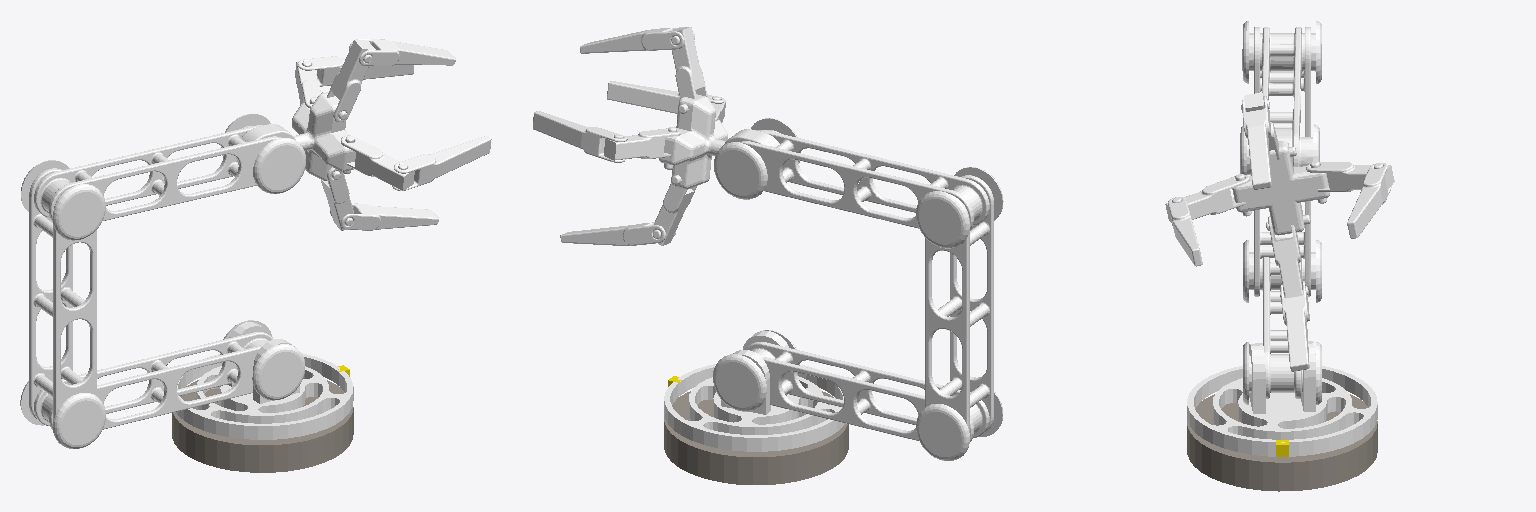
--- What the picture shows (computed from the rendered views, not written in the file) ---
3 views of the same robot in one strip: view 1: azimuth 30°, elevation 25°; view 2: azimuth 150°, elevation 25°; view 3: azimuth 270°, elevation 25° (orthographic).
Robot: big_arm_servos — 17 links, 16 joints (13 revolute, 1 continuous, 2 fixed); root link world; default pose: all joints at 0.
Links seen in each view (by area): view 1: link_4, link_2, link_1, link_3, base_link, link_6, grip_4b, grip_3b, grip_1b, grip_1, grip_4, grip_2b (+3 smaller); view 2: link_4, link_2, link_1, link_3, base_link, link_6, grip_2b, grip_3b, grip_1b, grip_1, grip_4b, grip_2 (+2 smaller); view 3: link_1, base_link, link_4, link_2, link_6, link_3, grip_1b, grip_3b, grip_2b, grip_4, grip_3, grip_2 (+2 smaller).
Boxes of the visible links, x1,y1,x2,y2 form: link_4: (21,114,305,240); link_2: (20,320,304,448); link_1: (176,322,353,439); link_3: (29,168,96,421); base_link: (172,380,353,472); link_6: (292,92,355,180); grip_4b: (392,136,491,190); grip_3b: (330,203,438,230); grip_1b: (349,39,455,65); grip_1: (327,40,375,122); grip_4: (341,135,414,190); grip_2b: (296,56,413,86); link_4: (714,118,1003,248); link_2: (713,330,1002,460); link_1: (664,331,844,451); link_3: (925,175,993,432); base_link: (664,391,848,484); link_6: (659,94,727,188); grip_2b: (533,111,627,162); grip_3b: (560,222,675,245); grip_1b: (580,27,694,53); grip_1: (669,27,707,98); grip_4b: (607,81,724,122); grip_2: (604,128,680,162); link_1: (1187,341,1377,456); base_link: (1187,394,1377,491); link_4: (1240,21,1321,174); link_2: (1243,240,1321,404); link_6: (1232,141,1329,235); link_3: (1254,27,1310,296); grip_1b: (1242,96,1271,189); grip_3b: (1280,281,1309,371); grip_2b: (1347,163,1391,238); grip_4: (1165,174,1249,222); grip_3: (1268,216,1308,297); grip_2: (1306,162,1394,191).
Size in the robot's own frame: 0.785 by 0.3604 by 0.6953 metres.
15 mesh visuals loaded from 15 distinct referenced files (15 binary STL).

URDF robot description (big_arm_servos):
<?xml version="1.0" encoding="utf-8"?>
<!-- This URDF was automatically created by SolidWorks to URDF Exporter! Originally created by Stephen Brawner ([email redacted]) 
     Commit Version: 1.5.1-0-g916b5db  Build Version: 1.5.7152.31018
     For more information, please see http://wiki.ros.org/sw_urdf_exporter -->
<robot
  name="big_arm_servos">
  <link
    name="base_link">
    <inertial>
      <origin
        xyz="5.10334886736748E-36 -1.54939116262366E-18 0.0248239436619718"
        rpy="0 0 0" />
      <mass
        value="2.4419917555561" />
      <inertia
        ixx="0.150370490434844"
        ixy="-8.31151180314476E-36"
        ixz="-1.89588324363783E-34"
        iyy="0.150370490434844"
        iyz="8.4912872199433E-18"
        izz="0.290141728163054" />
    </inertial>
    <visual>
      <origin
        xyz="0 0 0"
        rpy="0 0 0" />
      <geometry>
        <mesh
          filename="package://robot/meshes/base_link.STL" />
      </geometry>
      <material
        name="">
        <color
          rgba="0.647058823529412 0.619607843137255 0.588235294117647 1" />
      </material>
    </visual>
    <collision>
      <origin
        xyz="0 0 0"
        rpy="0 0 0" />
      <geometry>
        <mesh
          filename="package://robot/meshes/base_link.STL" />
      </geometry>
    </collision>
  </link>

  <link name="world"/>
  <joint name="world_joint" type="fixed">
    <parent link="world" />
    <child link = "base_link" />
    <origin xyz="0.0 0.0 0.0" rpy="0.0 0.0 0.0" />
  </joint>


  <link
    name="link_1">
    <inertial>
      <origin
        xyz="-6.72935833564308E-17 5.41722740362335E-16 0.0562858835388927"
        rpy="0 0 0" />
      <mass
        value="2.24036308689963" />
      <inertia
        ixx="0.00602313752636761"
        ixy="2.1208125474502E-05"
        ixz="-1.04263858784396E-18"
        iyy="0.00579248437417585"
        iyz="-5.09141599596496E-19"
        izz="0.0098329939500295" />
    </inertial>
    <visual>
      <origin
        xyz="0 0 0"
        rpy="0 0 0" />
      <geometry>
        <mesh
          filename="package://robot/meshes/link_1.STL" />
      </geometry>
      <material
        name="">
        <color
          rgba="1 1 1 0.32" />
      </material>
    </visual>
    <collision>
      <origin
        xyz="0 0 0"
        rpy="0 0 0" />
      <geometry>
        <mesh
          filename="package://robot/meshes/link_1.STL" />
      </geometry>
    </collision>
  </link>
  <joint
    name="joint_base_1"
    type="continuous">
    <origin
      xyz="0 0 0.025"
      rpy="0 0 0" />
    <parent
      link="base_link" />
    <child
      link="link_1" />
    <axis
      xyz="0 0 1" />
    <limit
      lower="-3.14159"
      upper="3.14159"
      effort="10000"
      velocity="10" />
    <dynamics
      damping="0.3"
      friction="0.3" />
  </joint>
  <link
    name="link_2">
    <inertial>
      <origin
        xyz="0.19 3.7470027081099E-16 -3.12389003553903E-16"
        rpy="0 0 0" />
      <mass
        value="1.38058358126134" />
      <inertia
        ixx="0.00248849839246422"
        ixy="5.07965658468404E-18"
        ixz="-3.90312782094782E-18"
        iyy="0.0437476242743762"
        iyz="-8.67361737988404E-19"
        izz="0.0425687229272136" />
    </inertial>
    <visual>
      <origin
        xyz="0 0 0"
        rpy="0 0 0" />
      <geometry>
        <mesh
          filename="package://robot/meshes/link_2.STL" />
      </geometry>
      <material
        name="">
        <color
          rgba="1 1 1 0.32" />
      </material>
    </visual>
    <collision>
      <origin
        xyz="0 0 0"
        rpy="0 0 0" />
      <geometry>
        <mesh
          filename="package://robot/meshes/link_2.STL" />
      </geometry>
    </collision>
  </link>
  <joint
    name="joint_12"
    type="revolute">
    <!--origin
      xyz="0 0 0.11"
      rpy="-1.5708 -0.95024 -3.0507" /-->
    <origin
      xyz="0 0 0.11"
      rpy="-1.5708 0 -3.14159" />
    <parent
      link="link_1" />
    <child
      link="link_2" />
    <axis
      xyz="0 0 1" />
    <limit
      lower="-3.14159"
      upper="3.14159"
      effort="10000"
      velocity="10" />
    <dynamics
      damping="0.1"
      friction="0.1" />
  </joint>
  <link
    name="link_3">
    <inertial>
      <origin
        xyz="0.190000000000009 1.0991207943789E-14 2.35922392732846E-16"
        rpy="0 0 0" />
      <mass
        value="0.492773406896242" />
      <inertia
        ixx="0.000993126064016739"
        ixy="-1.98629226131133E-19"
        ixz="-1.47383732822248E-18"
        iyy="0.00882828983439309"
        iyz="-3.79470760369927E-19"
        izz="0.00857639886635598" />
    </inertial>
    <visual>
      <origin
        xyz="0 0 0"
        rpy="0 0 0" />
      <geometry>
        <mesh
          filename="package://robot/meshes/link_3.STL" />
      </geometry>
      <material
        name="">
        <color
          rgba="1 1 1 0.32" />
      </material>
    </visual>
    <collision>
      <origin
        xyz="0 0 0"
        rpy="0 0 0" />
      <geometry>
        <mesh
          filename="package://robot/meshes/link_3.STL" />
      </geometry>
    </collision>
  </link>
  <joint
    name="joint_23"
    type="revolute">
    <!--origin
      xyz="0.38 0 0"
      rpy="0 0 -1.207" /-->
    <origin
      xyz="0.38 0 0"
      rpy="0 0 -1.57079" />
    <parent
      link="link_2" />
    <child
      link="link_3" />
    <axis
      xyz="0 0 1" />
    <limit
      lower="-3.14159"
      upper="3.14159"
      effort="1000"
      velocity="10" />
    <dynamics
      damping="0.1"
      friction="0.1" />
  </joint>
  <link
    name="link_4">
    <inertial>
      <!--origin
        xyz="0.188502975963012 -0.0164677703024454 -0.0171883854493124"
        rpy="0 0 0" /-->
      <origin
        xyz="0.188502975963012 -0.0164677703024454 -0.0171883854493124"
        rpy="0 0 0" />
      <mass
        value="1.38058358126134" />
      <inertia
        ixx="0.00312638334029432"
        ixy="0.00354785475887284"
        ixz="0.00359649566474575"
        iyy="0.0434376808533928"
        iyz="-0.000323506272525106"
        izz="0.0422407814003671" />
    </inertial>
    <visual>
      <origin
        xyz="0 0 0"
        rpy="0 -0.1 0.08" />
      <geometry>
        <mesh
          filename="package://robot/meshes/link_4.STL" />
      </geometry>
      <material
        name="">
        <color
          rgba="1 1 1 0.32" />
      </material>
    </visual>
    <collision>
      <origin
        xyz="0 0 0"
        rpy="0 -0.1 0" />
      <geometry>
        <mesh
          filename="package://robot/meshes/link_4.STL" />
      </geometry>
    </collision>
  </link>
  <joint
    name="joint_34"
    type="revolute">
    <!--origin
      xyz="0.38 0 0"
      rpy="0 -0.090932 -0.98436" /-->
    <origin
      xyz="0.38 0 0"
      rpy="0 0 -1.57079" />
    <parent
      link="link_3" />
    <child
      link="link_4" />
    <axis
      xyz="0 0 1" />
    <limit
      lower="0"
      upper="6.183"
      effort="1000"
      velocity="10" />
    <dynamics
      damping="0.1"
      friction="0.1" />
  </joint>
  <link
    name="link_5">
    <inertial>
    <!--origin
        xyz="-0.0141429450104605 7.53233908579176E-08 0.00199995138060591"
        rpy="0 0 0" /-->
      <origin
        xyz="-0.0141429450104605 7.53233908579176E-08 0.00199995138060591"
        rpy="0 0 0" />
      <mass
        value="0.130378439395373" />
      <inertia
        ixx="9.85693744749924E-05"
        ixy="-2.23559602004266E-09"
        ixz="-7.5663588800688E-11"
        iyy="0.000116973092049288"
        iyz="5.32702014819344E-11"
        izz="0.0001866513337855" />
    </inertial>
    <visual>
      <origin
        xyz="0 0 0"
        rpy="0 0 0" />
      <geometry>
        <mesh
          filename="package://robot/meshes/link_5.STL" />
      </geometry>
      <material
        name="">
        <color
          rgba="1 1 1 0.32" />
      </material>
    </visual>
    <collision>
      <origin
        xyz="0 0 0"
        rpy="0 0 0" />
      <geometry>
        <mesh
          filename="package://robot/meshes/link_5.STL" />
      </geometry>
    </collision>
  </link>
  <joint
    name="joint_45"
    type="revolute">
    <origin
      xyz="0.37701 0 0"
      rpy="0 0 3.14159" />
    <!--origin
      xyz="0.37701 -0.032936 -0.034377"
      rpy="0.062559 -0.066036 2.3822" /-->
    <parent
      link="link_4" />
    <child
      link="link_5" />
    <axis
      xyz="0 0 1" />
    <limit
      lower="0"
      upper="6.183"
      effort="1000"
      velocity="10" />
    <dynamics
      damping="0.1"
      friction="0.1" />
  </joint>
  <link
    name="link_6">
    <inertial>
      <origin
        xyz="-4.97039481107964E-07 2.63088229068842E-06 0.0786774570131245"
        rpy="0 0 0" />
      <mass
        value="0.665759903912911" />
      <inertia
        ixx="0.000952789706275326"
        ixy="-1.38154320697555E-08"
        ixz="-8.31042935225815E-10"
        iyy="0.00095286060074004"
        iyz="4.52211814098408E-09"
        izz="0.00141997991990691" />
    </inertial>
    <visual>
      <origin
        xyz="0 0 0"
        rpy="0 0 0" />
      <geometry>
        <mesh
          filename="package://robot/meshes/link_6.STL" />
      </geometry>
      <material
        name="">
        <color
          rgba="1 1 1 0.32" />
      </material>
    </visual>
    <collision>
      <origin
        xyz="0 0 0"
        rpy="0 0 0" />
      <geometry>
        <mesh
          filename="package://robot/meshes/link_6.STL" />
      </geometry>
    </collision>
  </link>
  <joint
    name="joint_56"
    type="revolute">
    <origin
      xyz="-0.04 0 0.002"
      rpy="-2.3654 1.5708 0.77614" />
    <parent
      link="link_5" />
    <child
      link="link_6" />
    <axis
      xyz="0 0 1" />
    <limit
      lower="0"
      upper="6.183"
      effort="1000"
      velocity="10" />
    <dynamics
      damping="0.1"
      friction="0.1" />
  </joint>
  <link
    name="grip_1">
    <inertial>
      <origin
        xyz="0.0674233348638277 -0.00149730770397288 0.00988726780355913"
        rpy="0 0 0" />
      <mass
        value="0.11992363568227" />
      <inertia
        ixx="2.32996122881845E-05"
        ixy="-3.6096640394024E-12"
        ixz="4.42085269022021E-13"
        iyy="0.000147857015499886"
        iyz="8.71359919641666E-07"
        izz="0.000142235051121448" />
    </inertial>
    <visual>
      <origin
        xyz="0 0 0"
        rpy="0 0 0" />
      <geometry>
        <mesh
          filename="package://robot/meshes/grip_1.STL" />
      </geometry>
      <material
        name="">
        <color
          rgba="1 1 1 0.32" />
      </material>
    </visual>
    <collision>
      <origin
        xyz="0 0 0"
        rpy="0 0 0" />
      <geometry>
        <mesh
          filename="package://robot/meshes/grip_1.STL" />
      </geometry>
    </collision>
  </link>
  <joint
    name="joint_6_g1"
    type="revolute">
    <origin
      xyz="-0.011072 0.05897 0.091"
      rpy="-1.7211 -0.33932 1.7564" />
    <parent
      link="link_6" />
    <child
      link="grip_1" />
    <axis
      xyz="0 0 1" />
    <limit
      lower="0"
      upper="0"
      effort="1000"
      velocity="10" />
    <dynamics
      damping="0.1"
      friction="0.1" />
  </joint>
  <link
    name="grip_1b">
    <inertial>
      <origin
        xyz="0.0843265899344989 -0.00212380310637394 0.0099999996377477"
        rpy="0 0 0" />
      <mass
        value="0.141643537240913" />
      <inertia
        ixx="2.42692219268835E-05"
        ixy="1.63887843182053E-05"
        ixz="7.78137406188141E-12"
        iyy="0.000336749313354746"
        iyz="-5.98415142376405E-12"
        izz="0.000330285690314077" />
    </inertial>
    <visual>
      <origin
        xyz="0 0 0"
        rpy="0 0 0" />
      <geometry>
        <mesh
          filename="package://robot/meshes/grip_1b.STL" />
      </geometry>
      <material
        name="">
        <color
          rgba="1 1 1 0.32" />
      </material>
    </visual>
    <collision>
      <origin
        xyz="0 0 0"
        rpy="0 0 0" />
      <geometry>
        <mesh
          filename="package://robot/meshes/grip_1b.STL" />
      </geometry>
    </collision>
  </link>
  <joint
    name="joint_grip_1b"
    type="revolute">
    <origin
      xyz="0.11 0 0"
      rpy="0.011605 0.14985 -1.4932" />
    <parent
      link="grip_1" />
    <child
      link="grip_1b" />
    <axis
      xyz="0 0 1" />
    <limit
      lower="0"
      upper="0"
      effort="1000"
      velocity="10" />
  </joint>
  <link
    name="grip_2">
    <inertial>
      <origin
        xyz="0.0659446867940136 -0.0140429541455789 0.0100000004099546"
        rpy="0 0 0" />
      <mass
        value="0.119923642785374" />
      <inertia
        ixx="2.87087256812529E-05"
        ixy="2.54007949129357E-05"
        ixz="-6.35189378224036E-13"
        iyy="0.000142579853996741"
        iyz="-2.45328437956385E-12"
        izz="0.000142103089158568" />
    </inertial>
    <visual>
      <origin
        xyz="0 0 0"
        rpy="0 0 0" />
      <geometry>
        <mesh
          filename="package://robot/meshes/grip_2.STL" />
      </geometry>
      <material
        name="">
        <color
          rgba="1 1 1 0.32" />
      </material>
    </visual>
    <collision>
      <origin
        xyz="0 0 0"
        rpy="0 0 0" />
      <geometry>
        <mesh
          filename="package://robot/meshes/grip_2.STL" />
      </geometry>
    </collision>
  </link>
  <joint
    name="joint_6_g2"
    type="revolute">
    <origin
      xyz="0.05897 0.011072 0.091"
      rpy="-1.5708 -0.19278 0.1856" />
    <parent
      link="link_6" />
    <child
      link="grip_2" />
    <axis
      xyz="0 0 1" />
    <limit
      lower="0"
      upper="0"
      effort="1000"
      velocity="10" />
  </joint>
  <link
    name="grip_2b">
    <inertial>
      <origin
        xyz="0.0843265865207311 -0.00212380179885391 0.00999999957992204"
        rpy="0 0 0" />
      <mass
        value="0.141643614685743" />
      <inertia
        ixx="2.42692404977318E-05"
        ixy="1.63887852150154E-05"
        ixz="-1.45187447117269E-13"
        iyy="0.000336749419639376"
        iyz="-4.62085035355829E-12"
        izz="0.000330285797805327" />
    </inertial>
    <visual>
      <origin
        xyz="0 0 0"
        rpy="0 0 0" />
      <geometry>
        <mesh
          filename="package://robot/meshes/grip_2b.STL" />
      </geometry>
      <material
        name="">
        <color
          rgba="1 1 1 0.32" />
      </material>
    </visual>
    <collision>
      <origin
        xyz="0 0 0"
        rpy="0 0 0" />
      <geometry>
        <mesh
          filename="package://robot/meshes/grip_2b.STL" />
      </geometry>
    </collision>
  </link>
  <joint
    name="joint_grip_2b"
    type="revolute">
    <origin
      xyz="0.10759 -0.022911 0"
      rpy="0 0 -1.5817" />
    <parent
      link="grip_2" />
    <child
      link="grip_2b" />
    <axis
      xyz="0 0 1" />
    <limit
      lower="0"
      upper="0"
      effort="1000"
      velocity="10" />
  </joint>
  <link
    name="grip_3">
    <inertial>
      <origin
        xyz="0.0674233349821467 -0.000216683054989369 -0.00999765235365951"
        rpy="0 0 0" />
      <mass
        value="0.119923637058051" />
      <inertia
        ixx="2.32996122767126E-05"
        ixy="-3.01255348785664E-12"
        ixz="1.15039704239531E-12"
        iyy="0.0001479862078452"
        iyz="-1.27510854779785E-07"
        izz="0.000142105857428452" />
    </inertial>
    <visual>
      <origin
        xyz="0 0 0"
        rpy="0 0 0" />
      <geometry>
        <mesh
          filename="package://robot/meshes/grip_3.STL" />
      </geometry>
      <material
        name="">
        <color
          rgba="1 1 1 0.32" />
      </material>
    </visual>
    <collision>
      <origin
        xyz="0 0 0"
        rpy="0 0 0" />
      <geometry>
        <mesh
          filename="package://robot/meshes/grip_3.STL" />
      </geometry>
    </collision>
  </link>
  <joint
    name="joint_6_g3"
    type="revolute">
    <origin
      xyz="0.011072 -0.05897 0.091"
      rpy="-1.5491 -0.33932 -1.3852" />
    <parent
      link="link_6" />
    <child
      link="grip_3" />
    <axis
      xyz="0 0 1" />
    <limit
      lower="0"
      upper="0"
      effort="1000"
      velocity="10" />
  </joint>
  <link
    name="grip_3b">
    <inertial>
      <origin
        xyz="0.0843265835470308 -0.00212380359506137 -0.0100000017555446"
        rpy="0 0 0" />
      <mass
        value="0.141643615845273" />
      <inertia
        ixx="2.42692401970422E-05"
        ixy="1.6388779687381E-05"
        ixz="-2.83700056075674E-12"
        iyy="0.000336749373130495"
        iyz="-7.01396464170066E-12"
        izz="0.000330285749652679" />
    </inertial>
    <visual>
      <origin
        xyz="0 0 0"
        rpy="0 0 0" />
      <geometry>
        <mesh
          filename="package://robot/meshes/grip_3b.STL" />
      </geometry>
      <material
        name="">
        <color
          rgba="1 1 1 0.32" />
      </material>
    </visual>
    <collision>
      <origin
        xyz="0 0 0"
        rpy="0 0 0" />
      <geometry>
        <mesh
          filename="package://robot/meshes/grip_3b.STL" />
      </geometry>
    </collision>
  </link>
  <joint
    name="joint_grip_3b"
    type="revolute">
    <origin
      xyz="0.11 0 0"
      rpy="-0.013124 -0.017244 -0.9202" />
    <parent
      link="grip_3" />
    <child
      link="grip_3b" />
    <axis
      xyz="0 0 1" />
    <limit
      lower="0"
      upper="0"
      effort="1000"
      velocity="10" />
  </joint>
  <link
    name="grip_4">
    <inertial>
      <origin
        xyz="0.0674233355383608 -1.42527756957778E-09 0.0100000001980208"
        rpy="0 0 0" />
      <mass
        value="0.119923640551901" />
      <inertia
        ixx="2.32996121229523E-05"
        ixy="3.46372397723362E-12"
        ixz="-8.87942195128388E-13"
        iyy="0.000147988969529785"
        iyz="-2.64203844349206E-12"
        izz="0.000142103091352165" />
    </inertial>
    <visual>
      <origin
        xyz="0 0 0"
        rpy="0 0 0" />
      <geometry>
        <mesh
          filename="package://robot/meshes/grip_4.STL" />
      </geometry>
      <material
        name="">
        <color
          rgba="1 1 1 0.32" />
      </material>
    </visual>
    <collision>
      <origin
        xyz="0 0 0"
        rpy="0 0 0" />
      <geometry>
        <mesh
          filename="package://robot/meshes/grip_4.STL" />
      </geometry>
    </collision>
  </link>
  <joint
    name="joint_6_g4"
    type="revolute">
    <origin
      xyz="-0.05897 -0.011072 0.091"
      rpy="1.5708 -0.4026 -2.956" />
    <parent
      link="link_6" />
    <child
      link="grip_4" />
    <axis
      xyz="0 0 1" />
    <limit
      lower="0"
      upper="0"
      effort="1000"
      velocity="10" />
  </joint>
  <link
    name="grip_4b">
    <inertial>
      <origin
        xyz="0.0843265859870006 -0.0021238019435485 -0.0100000004854647"
        rpy="0 0 0" />
      <mass
        value="0.141643613852148" />
      <inertia
        ixx="2.42692402907718E-05"
        ixy="1.63887841722403E-05"
        ixz="-6.86254961946683E-13"
        iyy="0.000336749412376889"
        iyz="-4.57853621959074E-12"
        izz="0.000330285790627453" />
    </inertial>
    <visual>
      <origin
        xyz="0 0 0"
        rpy="0 0 0" />
      <geometry>
        <mesh
          filename="package://robot/meshes/grip_4b.STL" />
      </geometry>
      <material
        name="">
        <color
          rgba="1 1 1 0.32" />
      </material>
    </visual>
    <collision>
      <origin
        xyz="0 0 0"
        rpy="0 0 0" />
      <geometry>
        <mesh
          filename="package://robot/meshes/grip_4b.STL" />
      </geometry>
    </collision>
  </link>
  <joint
    name="joint_grip_4b"
    type="revolute">
    <origin
      xyz="0.11 0 0"
      rpy="3.1416 0 1.2805" />
    <parent
      link="grip_4" />
    <child
      link="grip_4b" />
    <axis
      xyz="0 0 1" />
    <limit
      lower="0"
      upper="0"
      effort="1000"
      velocity="10" />
  </joint>

  <!-- CAMERA -->

  <link
    name="camera_link">
    <inertial>
      <origin
        xyz="0 0 0"
        rpy="0 0 0" />
      <mass
        value="0.03" />
      <inertia
        ixx="1E-5"
        ixy="-6.30057515429682E-19"
        ixz="9.52689050201753E-19"
        iyy="1E-5"
        iyz="-2.5410988417629E-20"
        izz="1E-5" />
    </inertial>
    <visual>
      <origin
        xyz="0 0 0"
        rpy="0 0 0" />
    <geometry>
      <box size="0.02 0.02 0.02"/>
    </geometry>
      <material
        name="">
        <color
          rgba="1 0.913725490196078 0.0313725490196078 1" />
      </material>
    </visual>
    <collision>
      <origin
        xyz="0 0 0"
        rpy="0 0 0" />
      <geometry>
          <box size="0.02 0.02 0.02"/>
      </geometry>
    </collision>
  </link>

  <joint name="camera_joint" type="fixed">
    <parent link="link_1" />
    <child link = "camera_link" />
    <origin xyz="0.15 0.0 0.05" rpy="0.0 0.0 0.0" />
  </joint>

  <gazebo reference="camera_link">
    <sensor type="camera" name="camera1">
      <update_rate>30.0</update_rate>
      <camera name="head">
        <horizontal_fov>1.3962634</horizontal_fov>
        <image>
          <width>800</width>
          <height>800</height>
          <format>R8G8B8</format>
        </image>
        <clip>
          <near>0.02</near>
          <far>300</far>
        </clip>
        <noise>
          <type>gaussian</type>
          <!-- Noise is sampled independently per pixel on each frame.
               That pixel's noise value is added to each of its color
               channels, which at that point lie in the range [0,1]. -->
          <mean>0.0</mean>
          <stddev>0.007</stddev>
        </noise>
      </camera>
      <plugin name="camera_controller" filename="libgazebo_ros_camera.so">
        <alwaysOn>true</alwaysOn>
        <updateRate>0.0</updateRate>
        <cameraName>big_arm/camera1</cameraName>
        <imageTopicName>image_raw</imageTopicName>
        <cameraInfoTopicName>camera_info</cameraInfoTopicName>
        <frameName>camera_link</frameName>
        <hackBaseline>0.07</hackBaseline>
        <distortionK1>0.0</distortionK1>
        <distortionK2>0.0</distortionK2>
        <distortionK3>0.0</distortionK3>
        <distortionT1>0.0</distortionT1>
        <distortionT2>0.0</distortionT2>
      </plugin>
    </sensor>
  </gazebo>

   <!-- GAZEBO REFERENCES FOR BODIES-->

  <gazebo reference="camera_link">
  <selfCollide>true</selfCollide>
    <mu1>0.1</mu1>
    <mu2>0.1</mu2>
    <kp>100000</kp>
    <kd>0.1</kd>
    <material>Gazebo/Brown</material>
  </gazebo>  

  <gazebo reference="base_link">
  <selfCollide>true</selfCollide>
    <mu1>0.1</mu1>
    <mu2>0.1</mu2>
    <kp>100000</kp>
    <kd>0.1</kd>
    <material>Gazebo/Orange</material>
  </gazebo>  

  <gazebo reference="link_1">
  <selfCollide>true</selfCollide>
    <mu1>0.1</mu1>
    <mu2>0.1</mu2>
    <kp>100000</kp>
    <kd>0.1</kd>
    <material>Gazebo/Orange</material>
  </gazebo> 

  <gazebo reference="link_2">
  <selfCollide>true</selfCollide>
    <mu1>0.1</mu1>
    <mu2>0.1</mu2>
    <kp>10000</kp>
    <kd>0.1</kd>
    <material>Gazebo/Orange</material>
  </gazebo> 

  <gazebo reference="link_3">
  <selfCollide>true</selfCollide>
    <mu1>0.1</mu1>
    <mu2>0.1</mu2>
    <kp>100000</kp>
    <kd>0.1</kd>
    <material>Gazebo/Orange</material>
  </gazebo> 

  <gazebo reference="link_4">
  <selfCollide>true</selfCollide>
    <mu1>0.1</mu1>
    <mu2>0.1</mu2>
    <kp>100000</kp>
    <kd>0.1</kd>
    <material>Gazebo/Orange</material>
  </gazebo> 

  <gazebo reference="link_5">
  <selfCollide>true</selfCollide>
    <mu1>0.1</mu1>
    <mu2>0.1</mu2>
    <kp>100000</kp>
    <kd>0.1</kd>
    <material>Gazebo/Orange</material>
  </gazebo> 

  <gazebo reference="link_6">
  <selfCollide>true</selfCollide>
    <mu1>0.1</mu1>
    <mu2>0.1</mu2>
    <kp>100000</kp>
    <kd>0.1</kd>
    <material>Gazebo/Orange</material>
  </gazebo> 

  <gazebo reference="grip_1">
  <selfCollide>true</selfCollide>
    <mu1>0.1</mu1>
    <mu2>0.1</mu2>
    <kp>100000</kp>
    <kd>1</kd>
    <material>Gazebo/Orange</material>
  </gazebo> 

  <gazebo reference="grip_1b">
  <selfCollide>true</selfCollide>
    <mu1>100</mu1>
    <mu2>100</mu2>
    <kp>100000</kp>
    <kd>1</kd>
    <material>Gazebo/Orange</material>
  </gazebo> 

  <gazebo reference="grip_2">
  <selfCollide>true</selfCollide>
    <mu1>100</mu1>
    <mu2>100</mu2>
    <kp>100000</kp>
    <kd>1</kd>
    <material>Gazebo/Orange</material>
  </gazebo> 

  <gazebo reference="grip_2b">
  <selfCollide>true</selfCollide>
    <mu1>100</mu1>
    <mu2>100</mu2>
    <kp>100000</kp>
    <kd>1</kd>
    <material>Gazebo/Orange</material>
  </gazebo> 

  <gazebo reference="grip_3">
  <selfCollide>true</selfCollide>
    <mu1>100</mu1>
    <mu2>100</mu2>
    <kp>100000</kp>
    <kd>1</kd>
    <material>Gazebo/Orange</material>
  </gazebo> 

  <gazebo reference="grip_3b">
  <selfCollide>true</selfCollide>
    <mu1>100</mu1>
    <mu2>100</mu2>
    <kp>100000000</kp>
    <kd>1</kd>
    <material>Gazebo/Orange</material>
  </gazebo>

  <gazebo reference="grip_4">
  <selfCollide>true</selfCollide>
    <mu1>100</mu1>
    <mu2>100</mu2>
    <kp>100000000</kp>
    <kd>100</kd>
    <material>Gazebo/Orange</material>
  </gazebo> 

  <gazebo reference="grip_4b">
  <selfCollide>true</selfCollide>
    <mu1>100</mu1>
    <mu2>100</mu2>
    <kp>100000000</kp>
    <kd>100</kd>
    <material>Gazebo/Orange</material>
  </gazebo> 

  <!-- ROS2 CONTROL -->
    <ros2_control name="GazeboSystem" type="system">
    <hardware>
      <plugin>gazebo_ros2_control/GazeboSystem</plugin>
    </hardware>    
    <joint name="joint_base_1">
      <command_interface name="position">
        <param name="min">-3.14159</param>
        <param name="max">3.14159</param>
      </command_interface>
      <state_interface name="position"/>
      <state_interface name="velocity"/>
      <state_interface name="effort"/>
    </joint>

    <joint name="joint_12">
      <command_interface name="position">
        <param name="min">-3.14159</param>
        <param name="max">3.14159</param>
      </command_interface>
      <state_interface name="position"/>
      <state_interface name="velocity"/>
      <state_interface name="effort"/>
    </joint>

    <joint name="joint_23">
      <command_interface name="position">
        <param name="min">-3.14159</param>
        <param name="max">3.14159</param>
      </command_interface>
      <state_interface name="position"/>
      <state_interface name="velocity"/>
      <state_interface name="effort"/>
    </joint>

    <joint name="joint_34">
      <command_interface name="position">
        <param name="min">-3.14159</param>
        <param name="max">3.14159</param>
      </command_interface>
      <state_interface name="position"/>
      <state_interface name="velocity"/>
      <state_interface name="effort"/>
    </joint>

    <joint name="joint_45">
      <command_interface name="position">
        <param name="min">-3.14159</param>
        <param name="max">3.14159</param>
      </command_interface>
      <state_interface name="position"/>
      <state_interface name="velocity"/>
      <state_interface name="effort"/>
    </joint>

    <joint name="joint_56">
      <command_interface name="position">
        <param name="min">-3.14159</param>
        <param name="max">3.14159</param>
      </command_interface>
      <state_interface name="position"/>
      <state_interface name="velocity"/>
      <state_interface name="effort"/>
    </joint>

    <joint name="joint_6_g1">
      <command_interface name="position">
        <param name="min">-3.14159</param>
        <param name="max">3.14159</param>
      </command_interface>
      <state_interface name="position"/>
      <state_interface name="velocity"/>
      <state_interface name="effort"/>
    </joint>

    <joint name="joint_6_g2">
      <command_interface name="position">
        <param name="min">-3.14159</param>
        <param name="max">3.14159</param>
      </command_interface>
      <state_interface name="position"/>
      <state_interface name="velocity"/>
      <state_interface name="effort"/>
    </joint>

    <joint name="joint_6_g3">
      <command_interface name="position">
        <param name="min">-3.14159</param>
        <param name="max">3.14159</param>
      </command_interface>
      <state_interface name="position"/>
      <state_interface name="velocity"/>
      <state_interface name="effort"/>
    </joint>

    <joint name="joint_6_g4">
      <command_interface name="position">
        <param name="min">-3.14159</param>
        <param name="max">3.14159</param>
      </command_interface>
      <state_interface name="position"/>
      <state_interface name="velocity"/>
      <state_interface name="effort"/>
    </joint>

    <joint name="joint_grip_1b">
      <command_interface name="position">
        <param name="min">-3.14159</param>
        <param name="max">3.14159</param>
      </command_interface>
      <state_interface name="position"/>
      <state_interface name="velocity"/>
      <state_interface name="effort"/>
    </joint>

    <joint name="joint_grip_2b">
      <command_interface name="position">
        <param name="min">-3.14159</param>
        <param name="max">3.14159</param>
      </command_interface>
      <state_interface name="position"/>
      <state_interface name="velocity"/>
      <state_interface name="effort"/>
    </joint>

    <joint name="joint_grip_3b">
      <command_interface name="position">
        <param name="min">-3.14159</param>
        <param name="max">3.14159</param>
      </command_interface>
      <state_interface name="position"/>
      <state_interface name="velocity"/>
      <state_interface name="effort"/>
    </joint>

    <joint name="joint_grip_4b">
      <command_interface name="position">
        <param name="min">-3.14159</param>
        <param name="max">3.14159</param>
      </command_interface>
      <state_interface name="position"/>
      <state_interface name="velocity"/>
      <state_interface name="effort"/>
    </joint>


  </ros2_control>
  
  
  
  <gazebo>
    <plugin filename="libgazebo_ros2_control.so" name="gazebo_ros2_control">
      <parameters>[local-path]/Mechatronics Projects/big_arm_ws/src/robot/config/pos_controller.yaml</parameters>
    </plugin>
  </gazebo>

  <!--Use Gazebo Joint State Publisher-->

  <gazebo>
    <plugin name="gazebo_ros_joint_state_publisher"
        filename="libgazebo_ros_joint_state_publisher.so">
        <update_rate>100</update_rate>
        <joint_name>camera_joint</joint_name>
    </plugin>
  </gazebo>
</robot>
